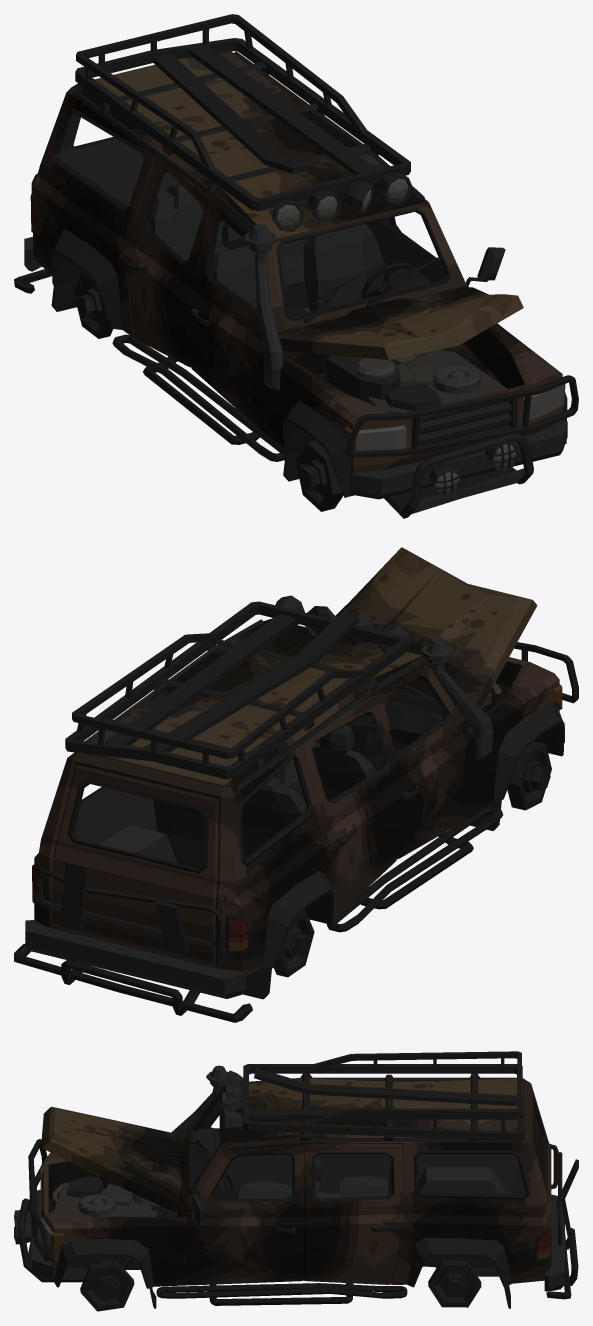
The model's file is SM_Veh_SUV_Destroyed_01.fbx.
The picture shows the model from 3 angles, top to bottom: view 1: azimuth 30°, elevation 25°; view 2: azimuth 150°, elevation 25°; view 3: azimuth 270°, elevation 25°; orthographic projection. The views are drawn at different scales.
Visible parts, largest first — view 1: SM_Veh_SUV_Destroyed_01; view 2: SM_Veh_SUV_Destroyed_01; view 3: SM_Veh_SUV_Destroyed_01.
Boxes of the visible parts, x1,y1,x2,y2 form: SM_Veh_SUV_Destroyed_01: [14, 14, 578, 518]; SM_Veh_SUV_Destroyed_01: [14, 547, 578, 1022]; SM_Veh_SUV_Destroyed_01: [14, 1051, 578, 1311].
Size of the model in its own units: 239 by 213 by 576.
